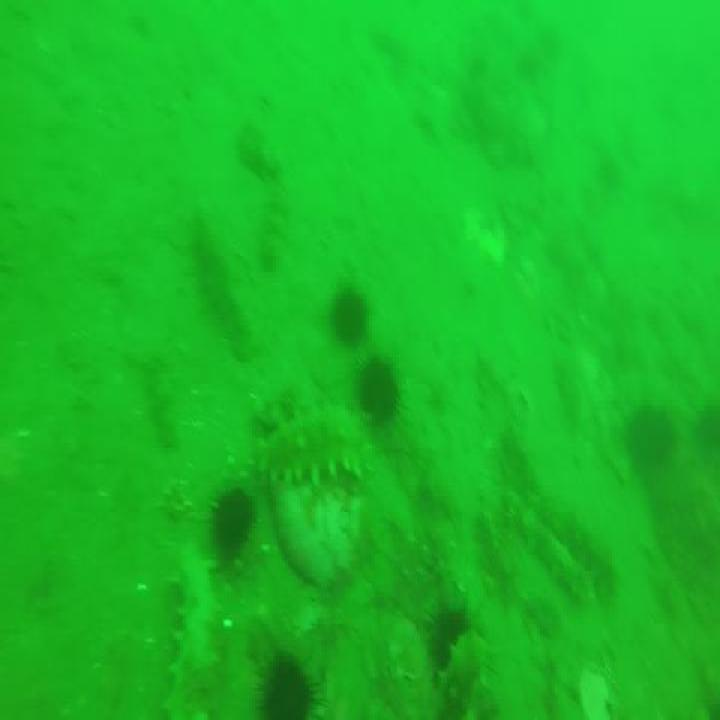echinus: (353, 350, 402, 439), (256, 654, 317, 720), (428, 597, 473, 672), (213, 487, 255, 565), (625, 407, 677, 468), (332, 282, 367, 348)
holothurian: (511, 489, 620, 613), (160, 556, 222, 720), (256, 407, 372, 487)
scallop: (580, 659, 612, 720)
